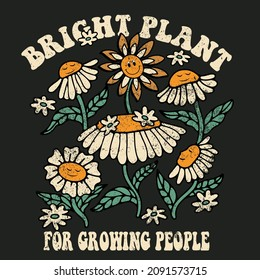flower: (78, 106, 188, 217), (154, 65, 239, 151), (30, 142, 108, 231), (102, 32, 167, 125), (157, 139, 224, 223), (43, 60, 110, 143)
